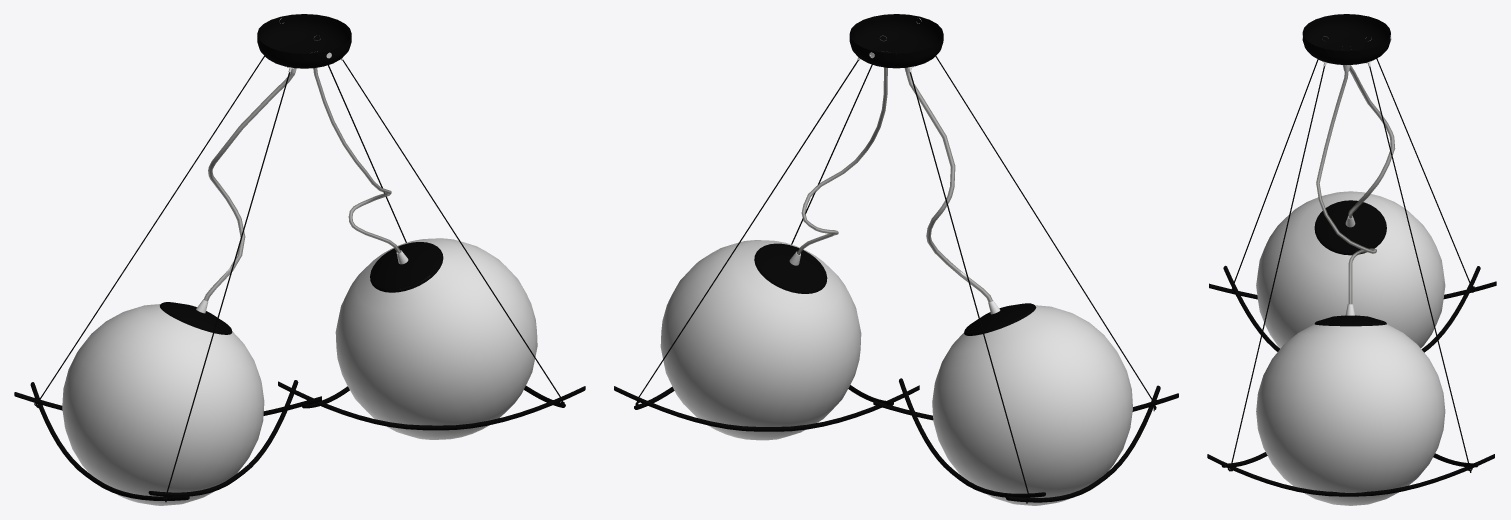
File: Lamp.fbx
3 views of the same model, side by side, from view 1: azimuth 30°, elevation 25°; view 2: azimuth 150°, elevation 25°; view 3: azimuth 270°, elevation 25° (orthographic). The views are drawn at different scales.
Visible parts, largest first — view 1: Lamp; view 2: Lamp; view 3: Lamp.
Part boxes in pixels (x1,y1,x2,y2): Lamp: (14,14,585,505); Lamp: (614,14,1178,505); Lamp: (1207,14,1496,505).
Size of the model in its own units: 1.84 by 1.1 by 1.69.
